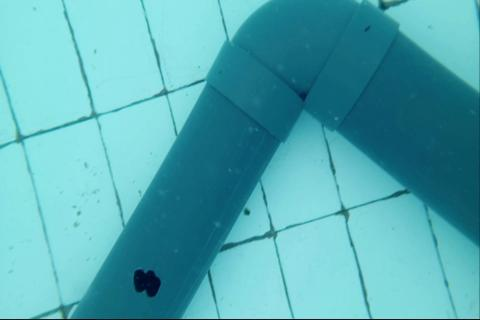kebocoran: (132, 268, 162, 299)
